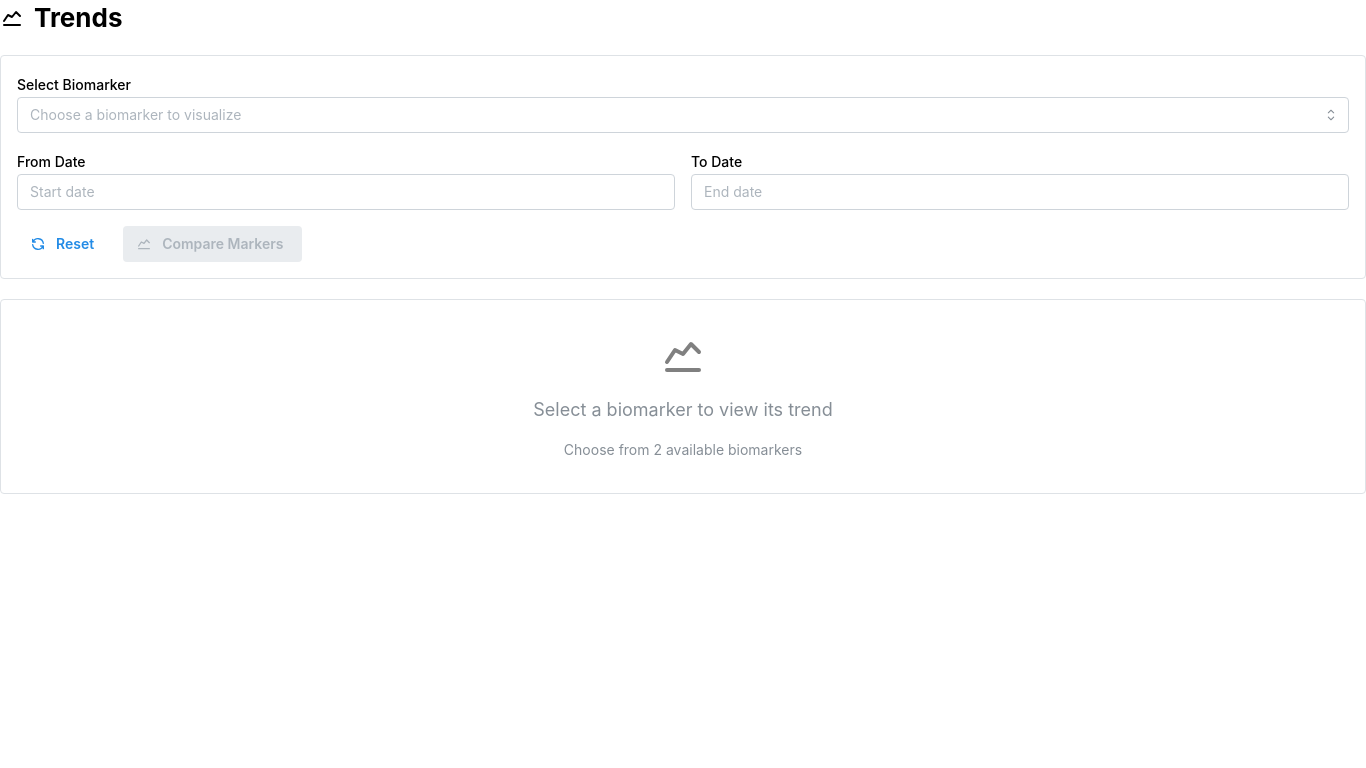
it: TrendsView › should open compare modal when compare button is clicked
// Select a biomarker first
Click the field with placeholder "Choose a biomarker to visualize". click: x=683, y=115
box: [17, 97, 1349, 133]
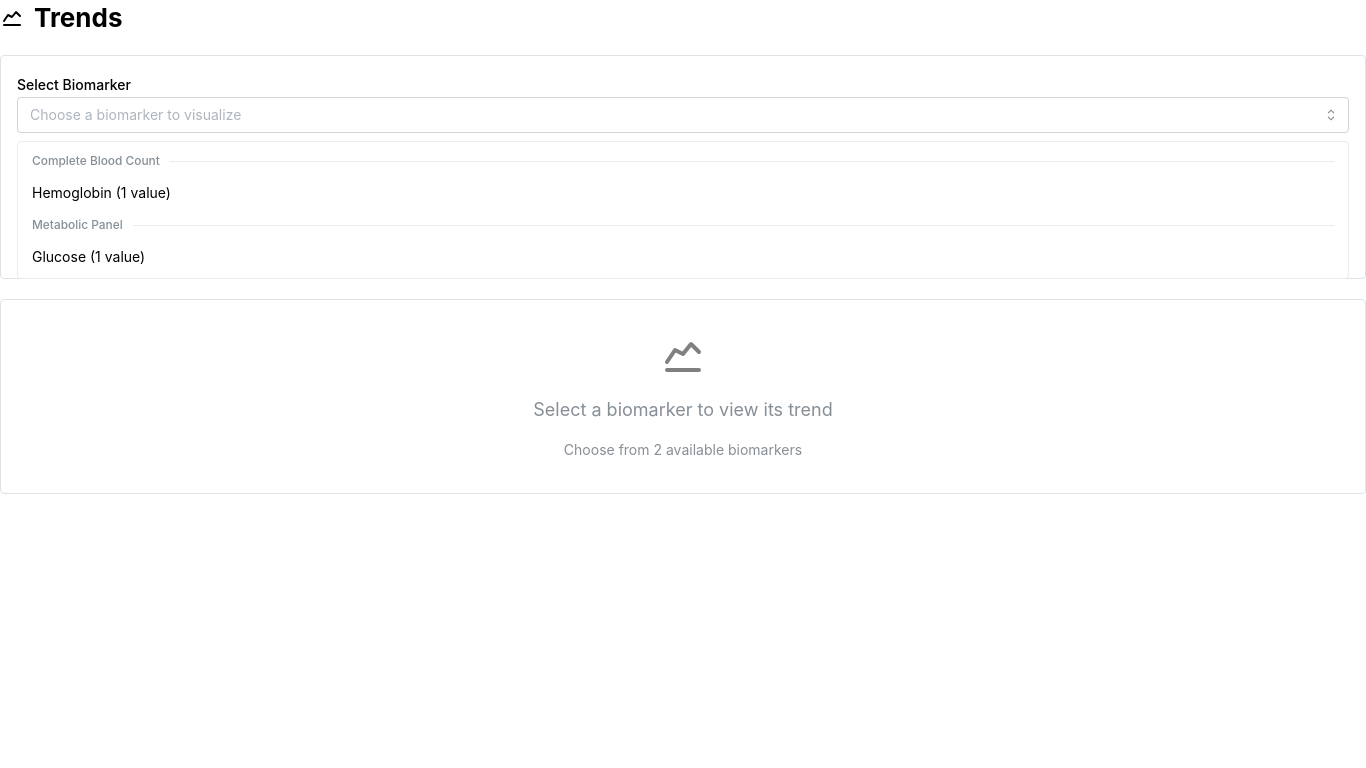
Now the list is shown, box [32, 153, 171, 266]
// Select glucose option using text content
Click the option "Glucose (1 value)". click: x=89, y=257
box: [32, 248, 145, 266]
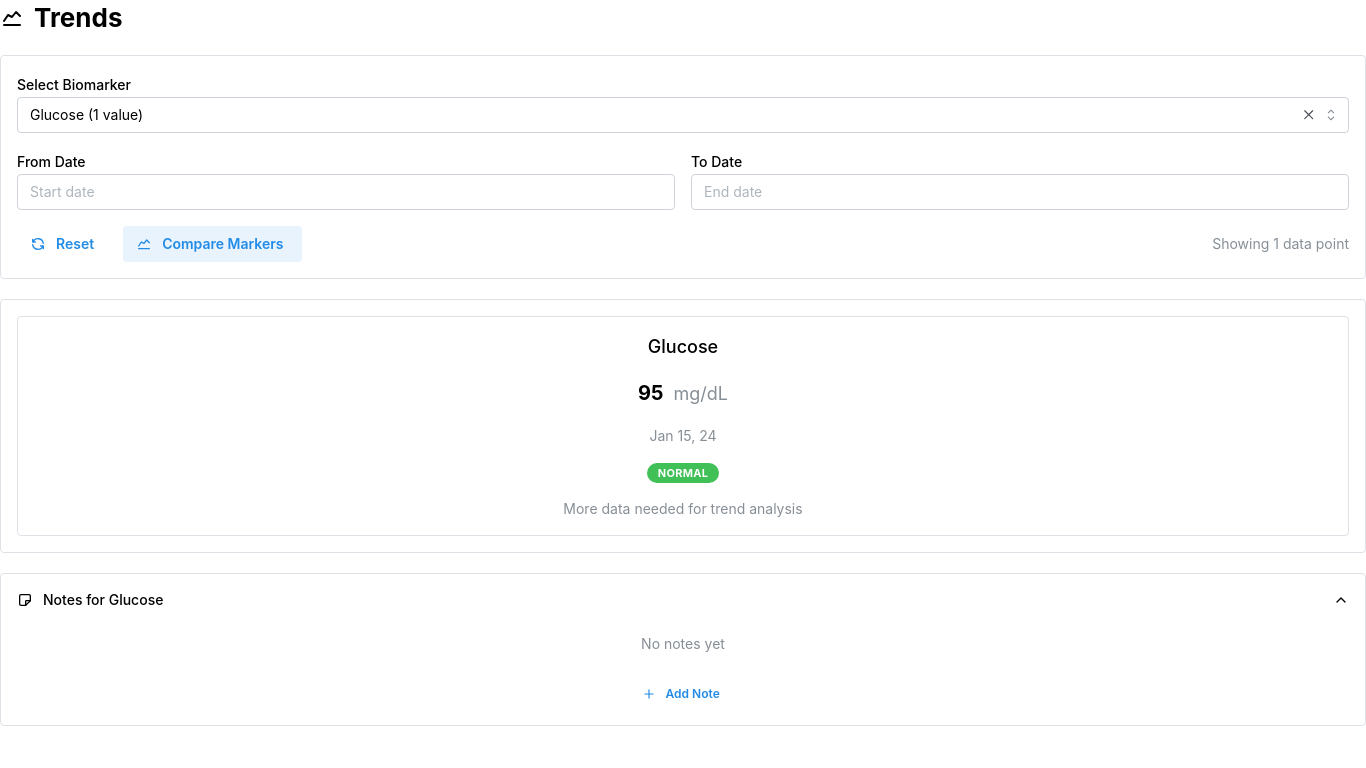
Now the text "Glucose" is shown, box [648, 333, 718, 362]
// Click compare button
Click the button "Compare Markers". click: x=213, y=244
box: [123, 226, 302, 262]
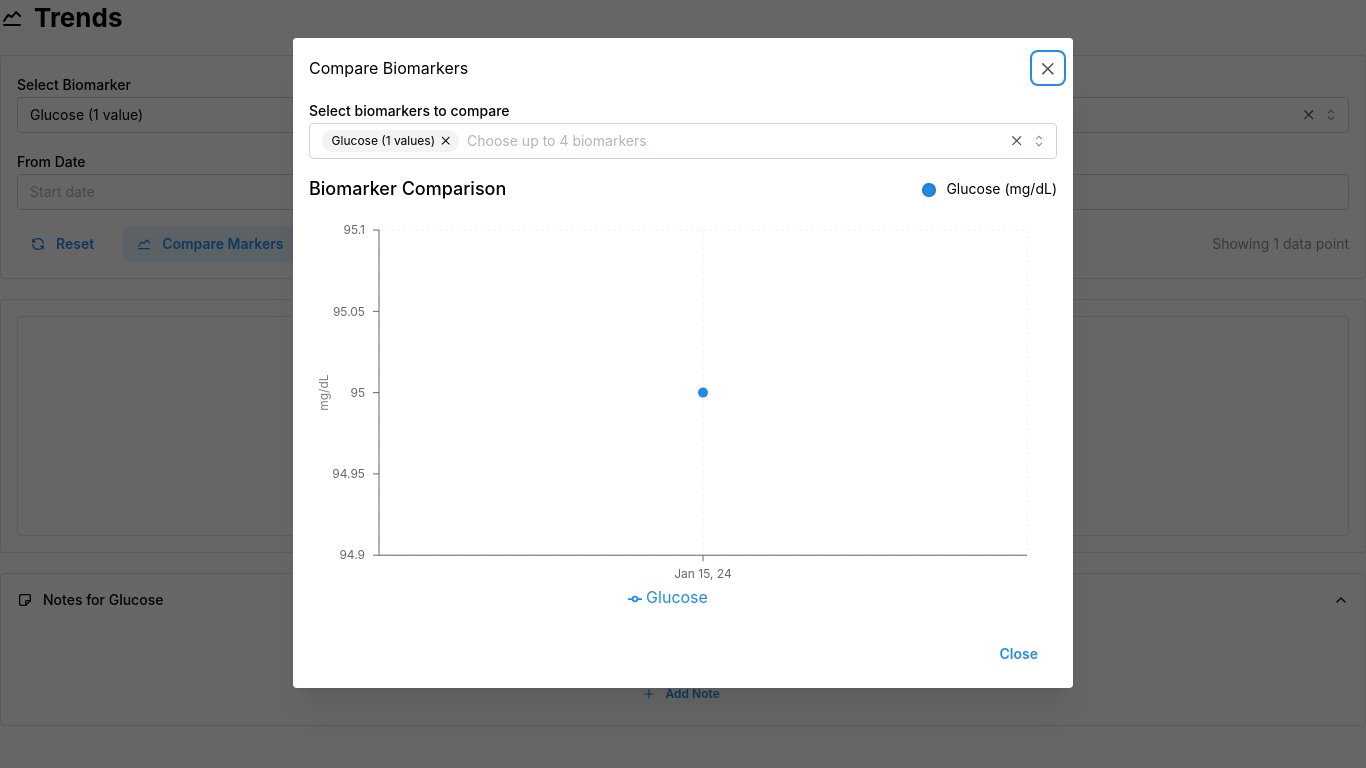
Now the heading "Compare Biomarkers" is shown, box [309, 60, 468, 76]
